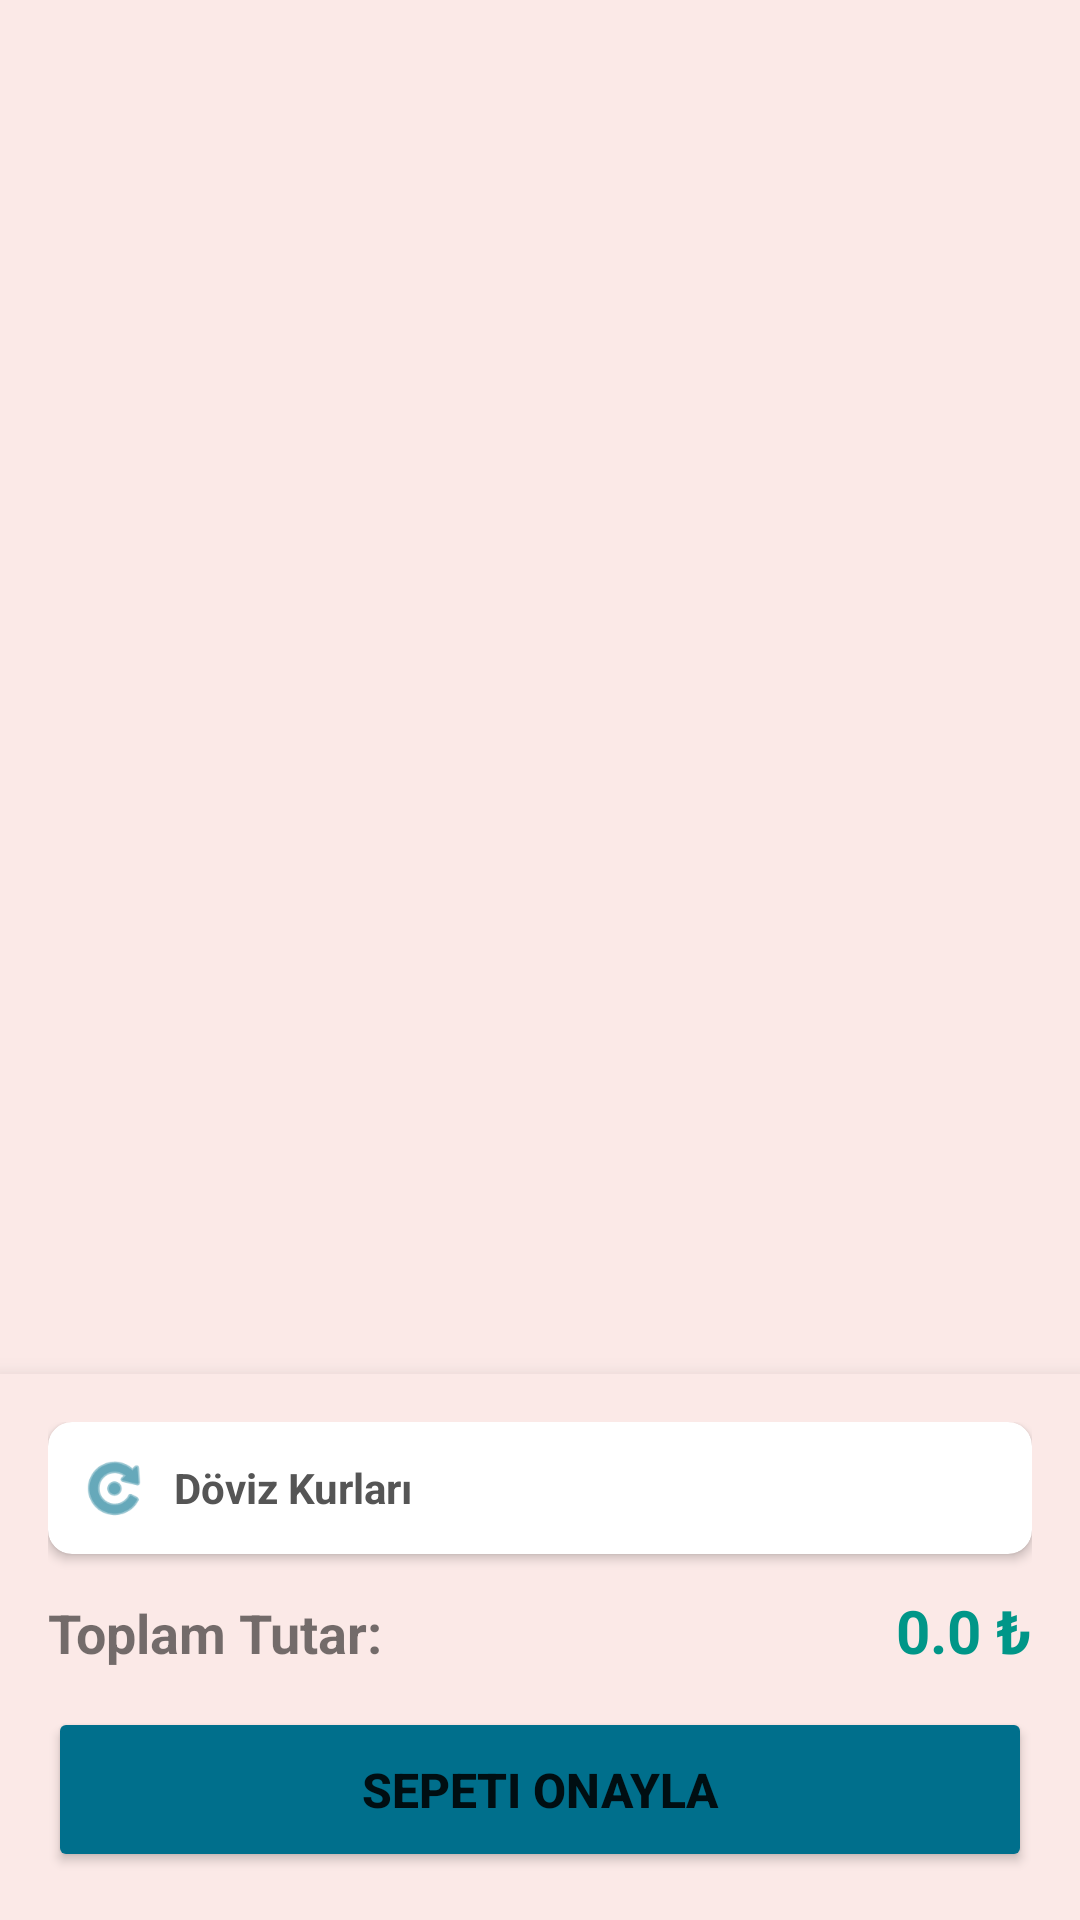

Named icons in this screenshot (1080 x 1920) and their bounding boxes, [left=x1, top=y1, right=x2, bottom=y2]:
rotate: [left=88, top=1461, right=140, bottom=1515]
